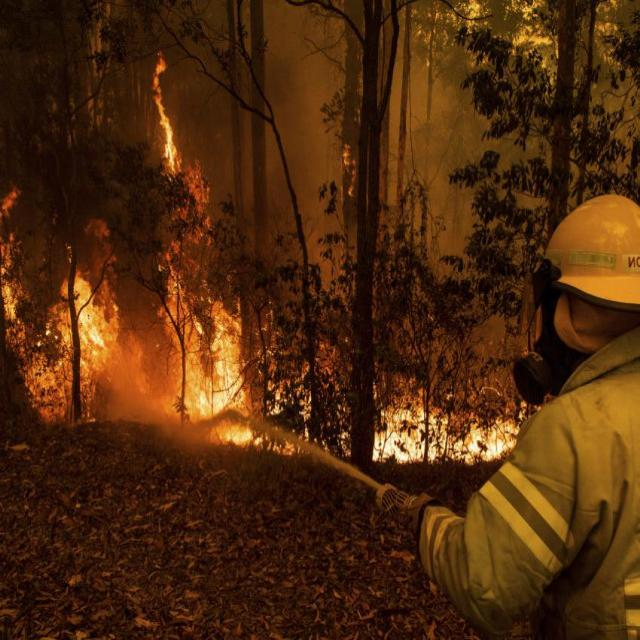fire: (21, 257, 523, 467), (150, 43, 195, 204)
